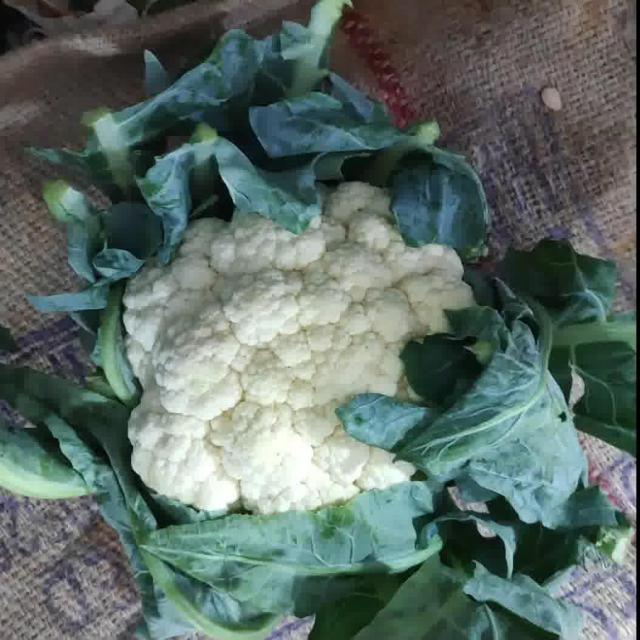Cauliflower: (123, 182, 474, 514)
